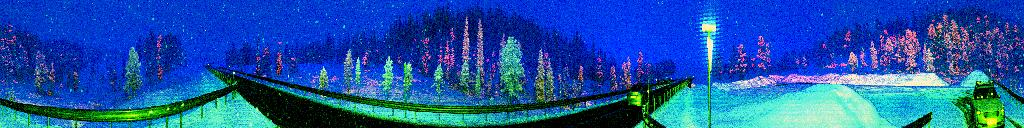pole: (646, 78, 651, 101), (232, 70, 236, 80), (288, 69, 290, 85)
